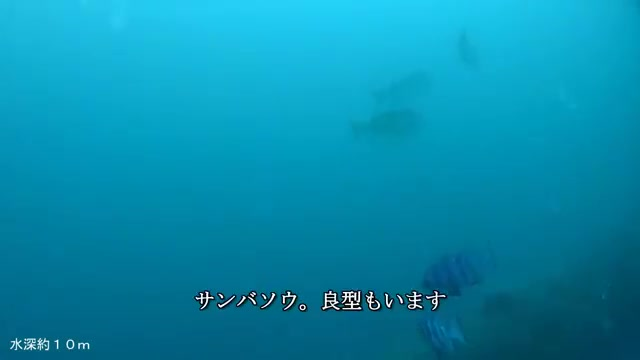smallfish: (423, 244, 502, 296)
